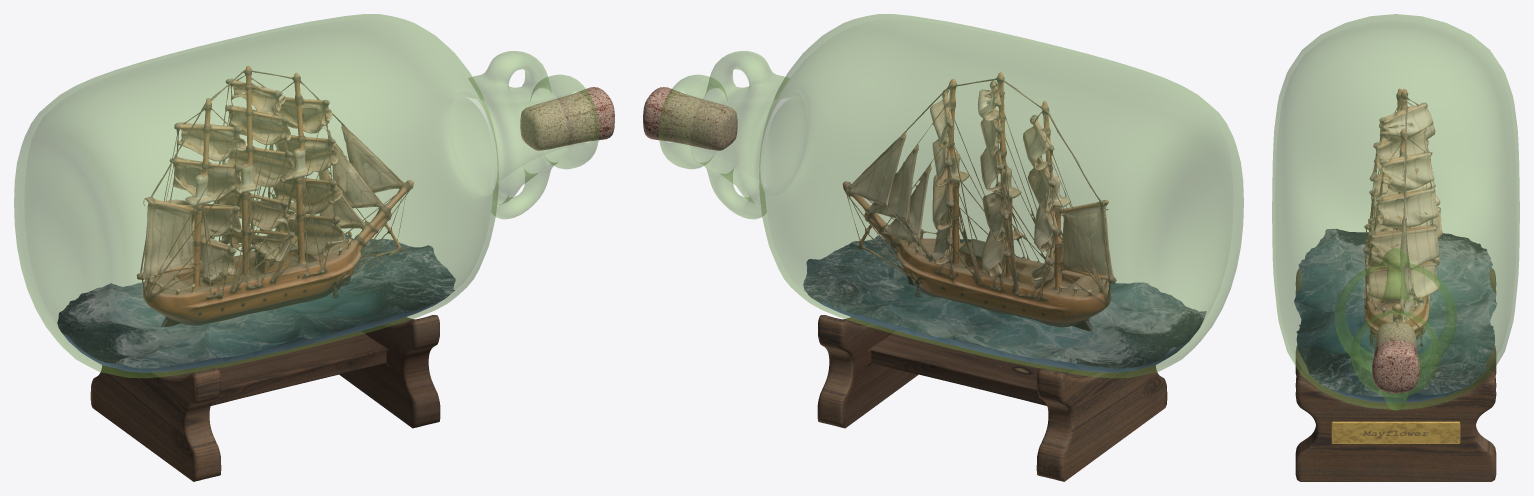
The model's file is ship-in-a-bottle-optimized.glb.
3 renders of one model, left to right at view 1: azimuth 30°, elevation 25°; view 2: azimuth 150°, elevation 25°; view 3: azimuth 270°, elevation 25°, orthographic. The views are drawn at different scales.
Visible parts, largest first — view 1: bottle_export, boat_export, support_export, sea, cap_export; view 2: bottle_export, boat_export, support_export, sea, cap_export; view 3: bottle_export, sea, support_export, boat_export, plaque_export, cap_export.
Boxes of the visible parts, <box> form: bottle_export: <box>14,14,599,378</box>; boat_export: <box>137,66,413,326</box>; support_export: <box>90,315,440,481</box>; sea: <box>57,233,455,372</box>; cap_export: <box>520,87,614,150</box>; bottle_export: <box>658,14,1243,378</box>; boat_export: <box>842,72,1116,330</box>; support_export: <box>817,315,1167,481</box>; sea: <box>803,235,1206,372</box>; cap_export: <box>643,87,737,150</box>; bottle_export: <box>1272,14,1519,410</box>; sea: <box>1294,228,1496,403</box>; support_export: <box>1295,268,1496,481</box>; boat_export: <box>1363,88,1442,346</box>; plaque_export: <box>1331,421,1460,443</box>; cap_export: <box>1372,322,1419,393</box>.
Bounding box in the file's own units: 1.68 × 1.07 × 0.6987.
8 materials, 5 textured.
